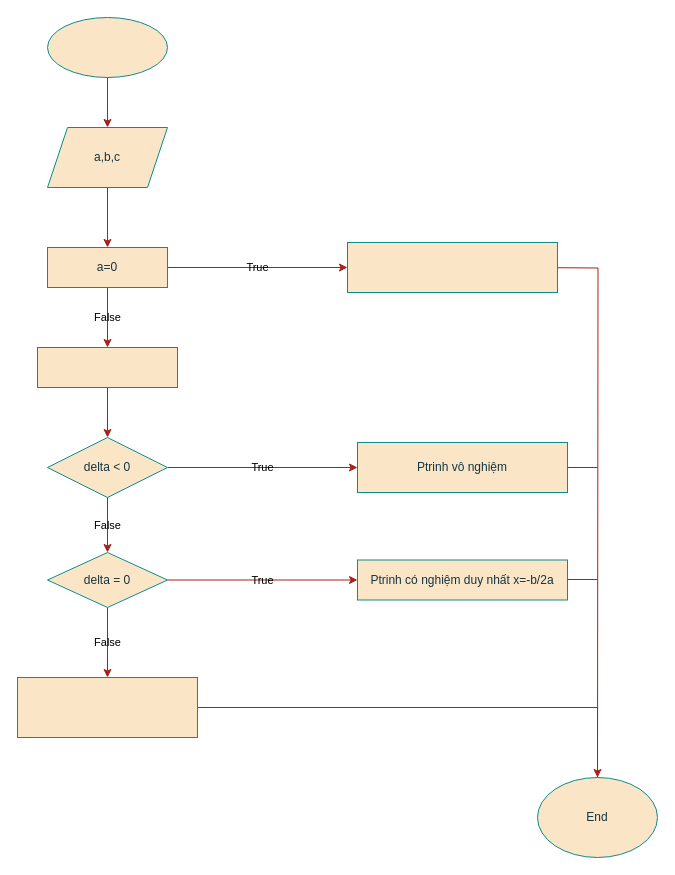
Image size: 675x875. Some labels were removed from this diagram. The centre of each missing label's shape, as x and y in pixels:
delta=b*b-4*a*c: (107,367)
Prinh có 2 nghiệm phân biệt x1 = (-b+sqrt(delta))/2*a x2 = (-b-sqrt(delta))/2*a: (107,707)
Ptrinh bậc nhất: (452,267)
Start: (107,47)
